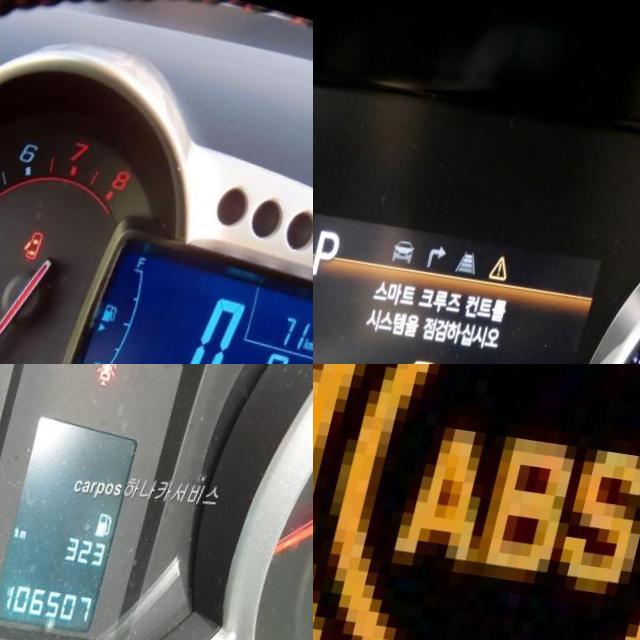Central Warning lamp: (500, 243, 523, 270)
Doors: (33, 220, 58, 254), (102, 364, 129, 376)
